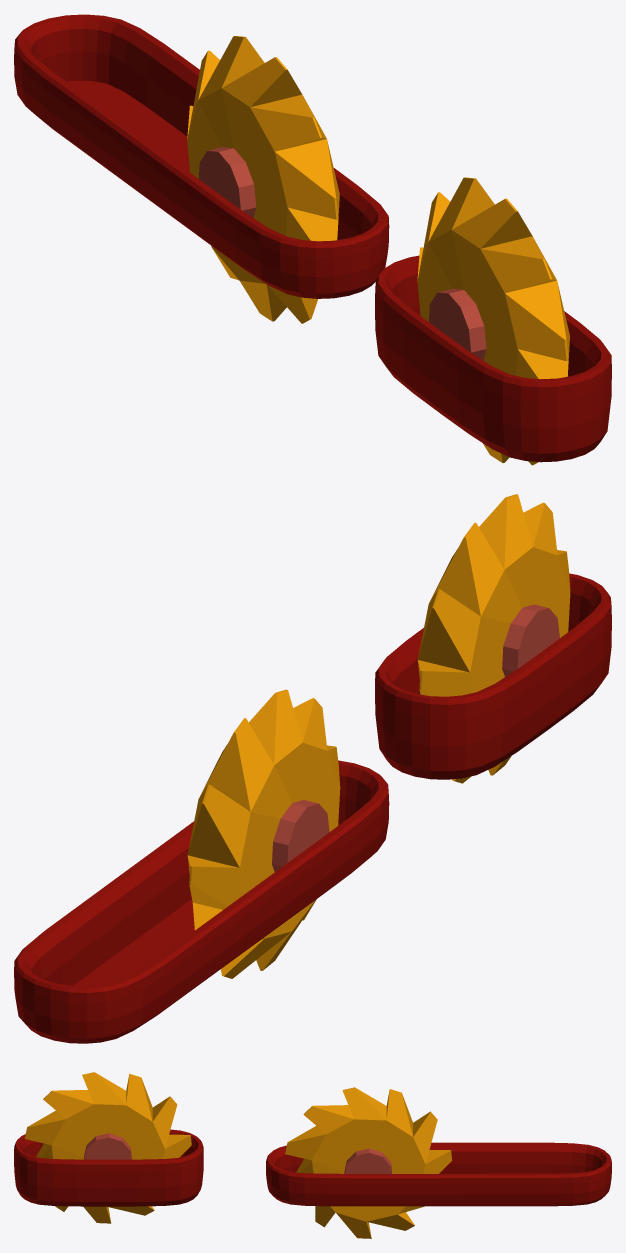
File: Saw.fbx
The picture shows the model from 3 angles, top to bottom: view 1: azimuth 30°, elevation 25°; view 2: azimuth 150°, elevation 25°; view 3: azimuth 270°, elevation 25°; orthographic projection. The views are drawn at different scales.
Parts seen in each view (by area): view 1: Cube.002, Cylinder.005, Cube.003, Cylinder.004; view 2: Cube.002, Cylinder.005, Cube.003, Cylinder.004; view 3: Cube.002, Cylinder.005, Cylinder.004, Cube.003.
Boxes of the visible parts, left/top/right/bottom form: Cube.002: left=14, top=14, right=389, bottom=298; Cylinder.005: left=187, top=36, right=339, bottom=323; Cube.003: left=375, top=255, right=611, bottom=462; Cylinder.004: left=417, top=177, right=569, bottom=465; Cube.002: left=14, top=760, right=389, bottom=1043; Cylinder.005: left=187, top=689, right=340, bottom=978; Cube.003: left=375, top=573, right=611, bottom=779; Cylinder.004: left=418, top=494, right=570, bottom=783; Cube.002: left=266, top=1142, right=611, bottom=1206; Cylinder.005: left=285, top=1087, right=452, bottom=1238; Cylinder.004: left=24, top=1072, right=191, bottom=1223; Cube.003: left=14, top=1129, right=203, bottom=1206.
Size of the model in its own units: 0.9838 by 2.18 by 7.12.
